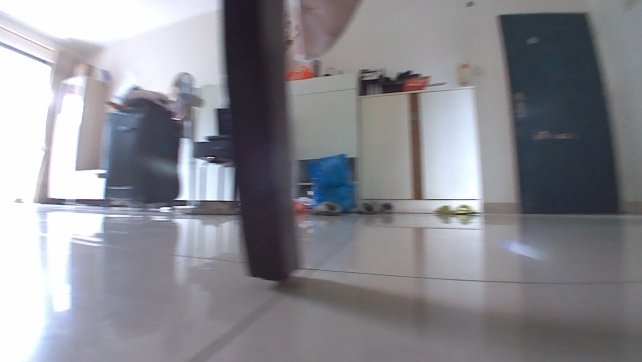door_anno: (494, 10, 625, 216)
